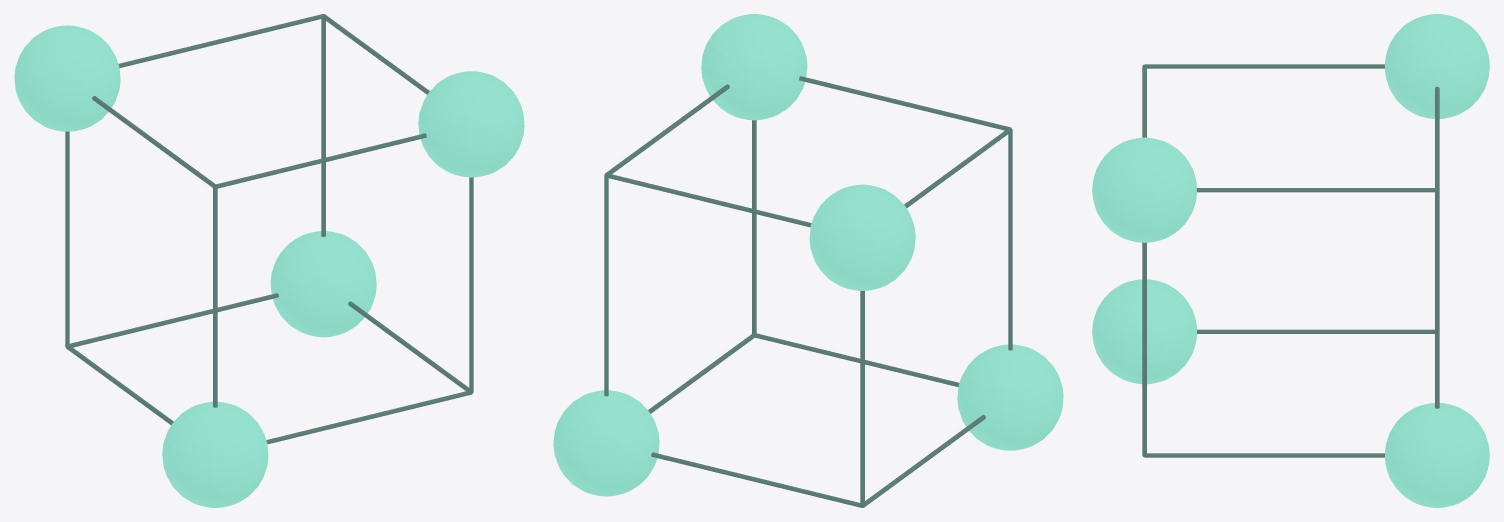
The picture shows the model from 3 angles, left to right: view 1: azimuth 30°, elevation 25°; view 2: azimuth 150°, elevation 25°; view 3: azimuth 270°, elevation 25°; orthographic projection.
Visible parts, largest first — view 1: bead_2, bead_0, bead_1, bead_3, lattice_001_101, lattice_000_001, lattice_000_100, lattice_011_111, lattice_010_110, lattice_010_011, lattice_100_101, lattice_110_111 (+4 smaller); view 2: bead_1, bead_3, bead_0, bead_2, lattice_010_110, lattice_001_101, lattice_011_111, lattice_110_111, lattice_000_001, lattice_010_011, lattice_000_100, lattice_100_101 (+4 smaller); view 3: bead_2, bead_3, bead_1, bead_0, lattice_101_111, lattice_100_110, lattice_001_011, lattice_000_010, lattice_110_111, lattice_100_101, lattice_011_111.
Part boxes in pixels (x1=…): bead_2: x1=418, y1=71, x2=524, y2=177; bead_0: x1=162, y1=401, x2=268, y2=507; bead_1: x1=14, y1=25, x2=120, y2=131; bead_3: x1=270, y1=231, x2=376, y2=337; lattice_001_101: x1=215, y1=133, x2=426, y2=188; lattice_000_001: x1=213, y1=187, x2=217, y2=407; lattice_000_100: x1=266, y1=390, x2=472, y2=444; lattice_011_111: x1=118, y1=14, x2=323, y2=68; lattice_010_110: x1=69, y1=293, x2=278, y2=347; lattice_010_011: x1=65, y1=131, x2=69, y2=346; lattice_100_101: x1=469, y1=177, x2=473, y2=392; lattice_110_111: x1=321, y1=18, x2=325, y2=236; bead_1: x1=809, y1=184, x2=915, y2=290; bead_3: x1=553, y1=390, x2=659, y2=496; bead_0: x1=957, y1=344, x2=1063, y2=450; bead_2: x1=701, y1=14, x2=807, y2=120; lattice_010_110: x1=651, y1=452, x2=862, y2=507; lattice_001_101: x1=799, y1=76, x2=1011, y2=130; lattice_011_111: x1=605, y1=173, x2=811, y2=227; lattice_110_111: x1=604, y1=175, x2=608, y2=396; lattice_000_001: x1=1008, y1=129, x2=1012, y2=350; lattice_010_011: x1=860, y1=291, x2=864, y2=506; lattice_000_100: x1=755, y1=333, x2=959, y2=387; lattice_100_101: x1=752, y1=120, x2=756, y2=334; bead_2: x1=1092, y1=137, x2=1196, y2=242; bead_3: x1=1385, y1=403, x2=1489, y2=507; bead_1: x1=1385, y1=14, x2=1489, y2=118; bead_0: x1=1092, y1=279, x2=1196, y2=384; lattice_101_111: x1=1197, y1=188, x2=1437, y2=192; lattice_100_110: x1=1144, y1=453, x2=1384, y2=457; lattice_001_011: x1=1145, y1=64, x2=1384, y2=68; lattice_000_010: x1=1197, y1=329, x2=1434, y2=333; lattice_110_111: x1=1435, y1=190, x2=1439, y2=408; lattice_100_101: x1=1142, y1=242, x2=1146, y2=456; lattice_011_111: x1=1435, y1=86, x2=1439, y2=190.
Size of the model in its own units: 1.36 by 1.36 by 1.36.
